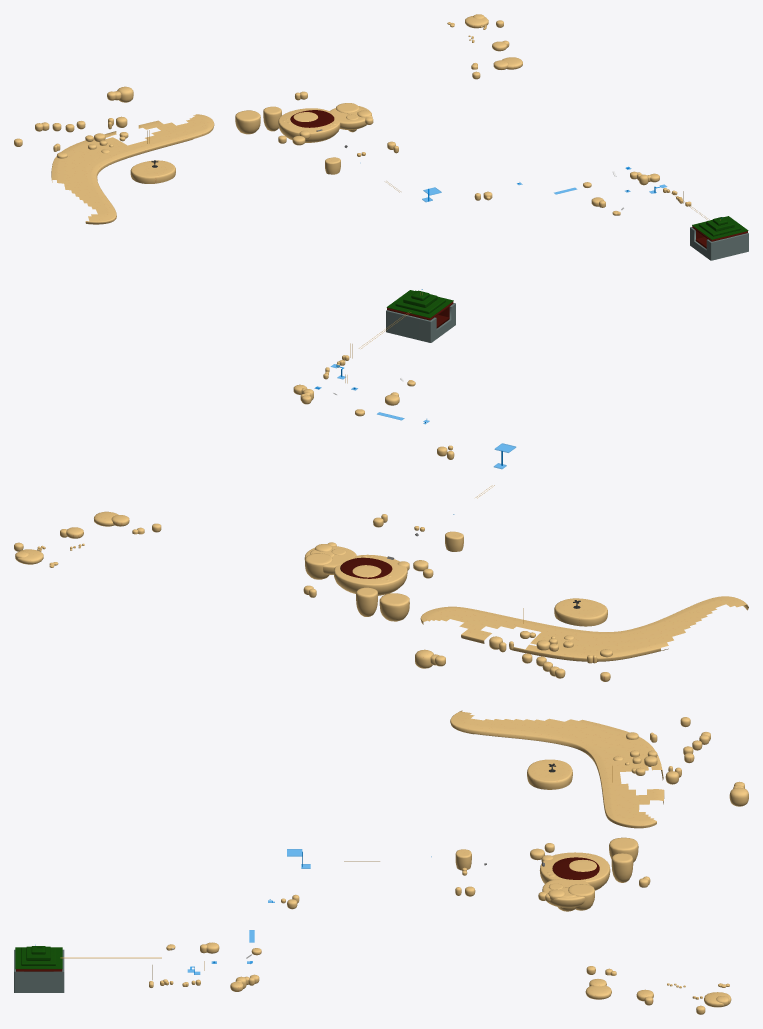
Rendered from Level6.fbx.
3 views of the same model, one above another, from view 1: azimuth 30°, elevation 25°; view 2: azimuth 150°, elevation 25°; view 3: azimuth 270°, elevation 25° (orthographic). The views are drawn at different scales.
Parts seen in each view (by area): view 1: Beach, Block9287, Block28447, Block28272, Block28359, Block28449, Block28448; view 2: Beach, Block9287, Block28447, Block28272, Block28359; view 3: Beach, Block9287, Block28272, Block28447, Block28449, Block28448, Block28360, Block28359.
Boxes of the visible parts, bbox=[...] form: Beach: bbox=[51, 114, 214, 224]; Block9287: bbox=[690, 227, 748, 260]; Block28447: bbox=[278, 108, 340, 142]; Block28272: bbox=[130, 160, 175, 183]; Block28359: bbox=[235, 110, 260, 134]; Block28449: bbox=[290, 110, 334, 127]; Block28448: bbox=[329, 106, 370, 129]; Beach: bbox=[420, 596, 748, 661]; Block9287: bbox=[386, 303, 455, 342]; Block28447: bbox=[333, 554, 407, 595]; Block28272: bbox=[554, 598, 607, 626]; Block28359: bbox=[379, 593, 409, 621]; Beach: bbox=[450, 710, 664, 828]; Block9287: bbox=[14, 949, 64, 992]; Block28272: bbox=[527, 759, 572, 789]; Block28447: bbox=[539, 852, 610, 890]; Block28449: bbox=[552, 857, 599, 879]; Block28448: bbox=[542, 879, 589, 907]; Block28360: bbox=[611, 853, 633, 882]; Block28359: bbox=[609, 837, 638, 862].
Size of what is drawn, in the model's own units: 643 by 53.74 by 666.
